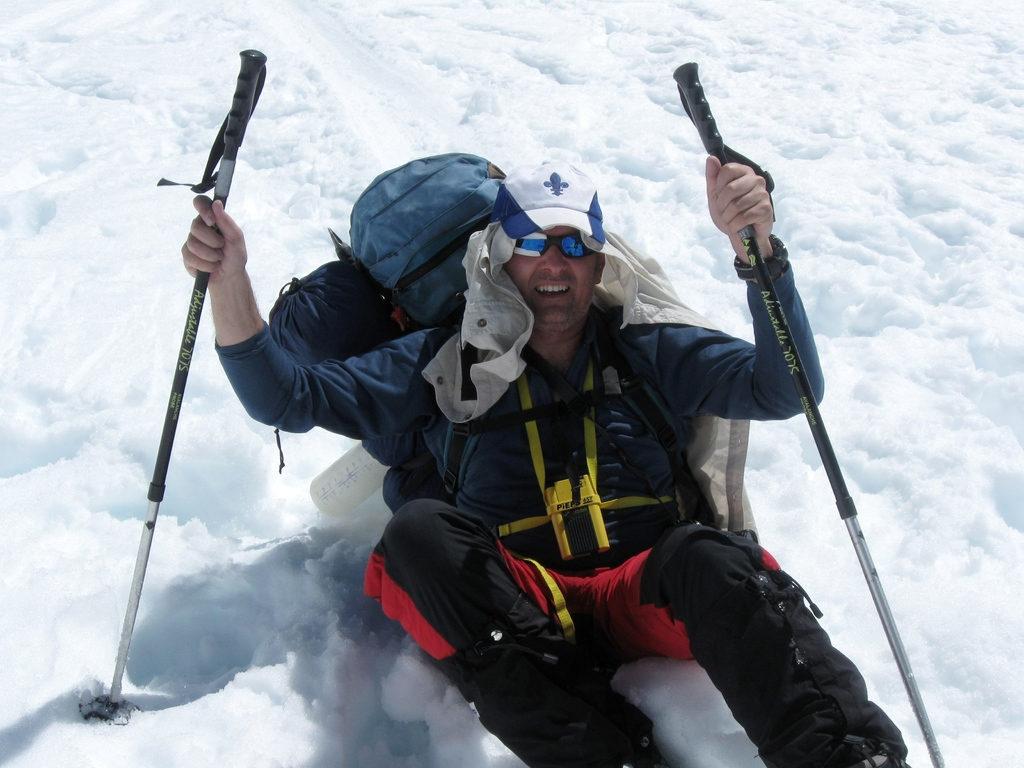Person: (180, 153, 915, 768)
